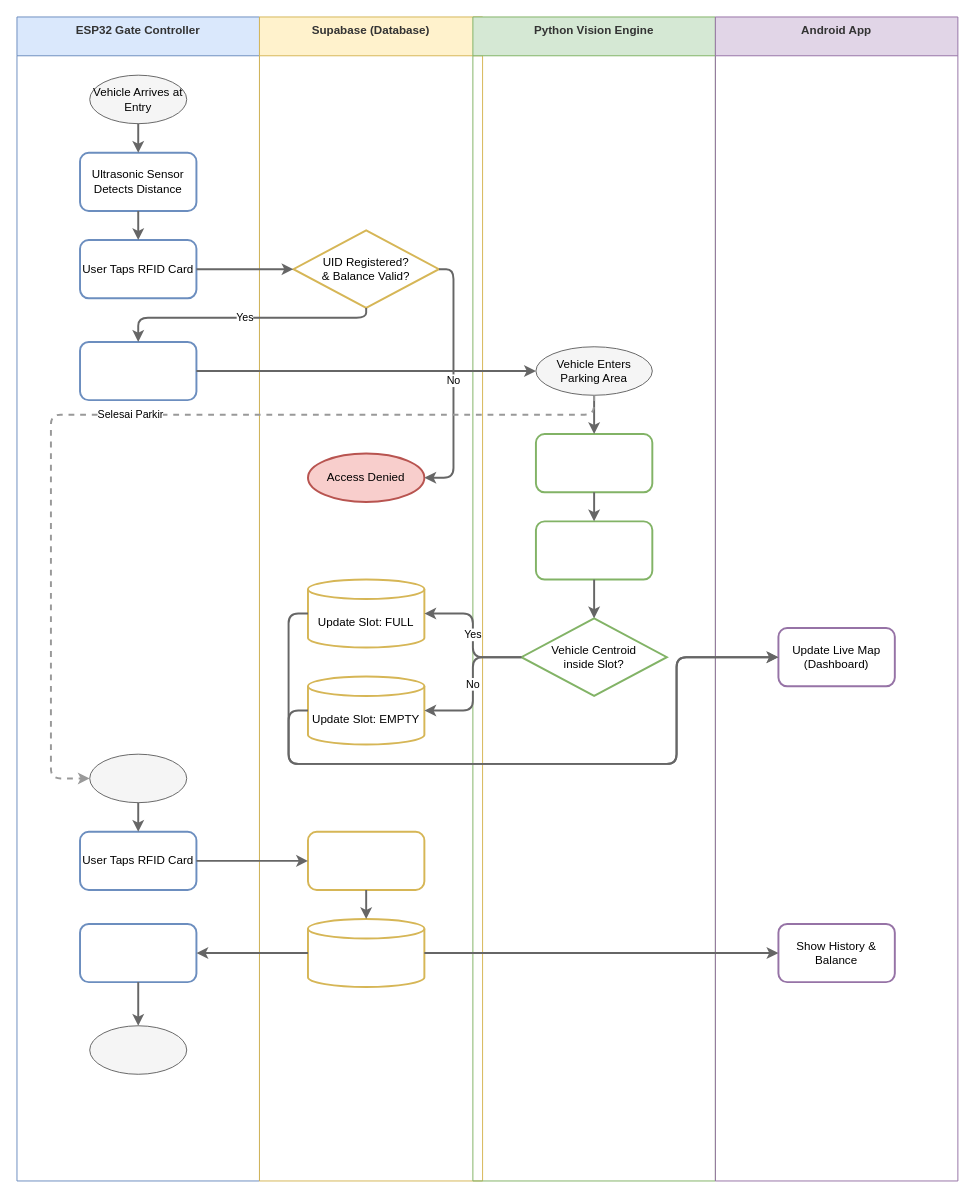
The diagram is 975 pixels wide and 1198 high, and some of its shapes have lost their labels. The shapes that lost their labels are listed below. From the top down, each one's box as (x1, y1, x2, y2) in pixels, then its label:
(79, 340, 197, 401): Open Entry Gate & Record parked_at
(534, 433, 653, 493): Webcam Captures Frame
(534, 520, 653, 580): YOLOv8 + ByteTrack Detection
(89, 753, 187, 803): Vehicle Arrives at Exit
(307, 830, 425, 890): Calculate Duration & Fee
(79, 922, 197, 983): Open Exit Gate
(307, 918, 425, 987): Deduct Balance & Save History
(89, 1025, 187, 1074): Vehicle Leaves
